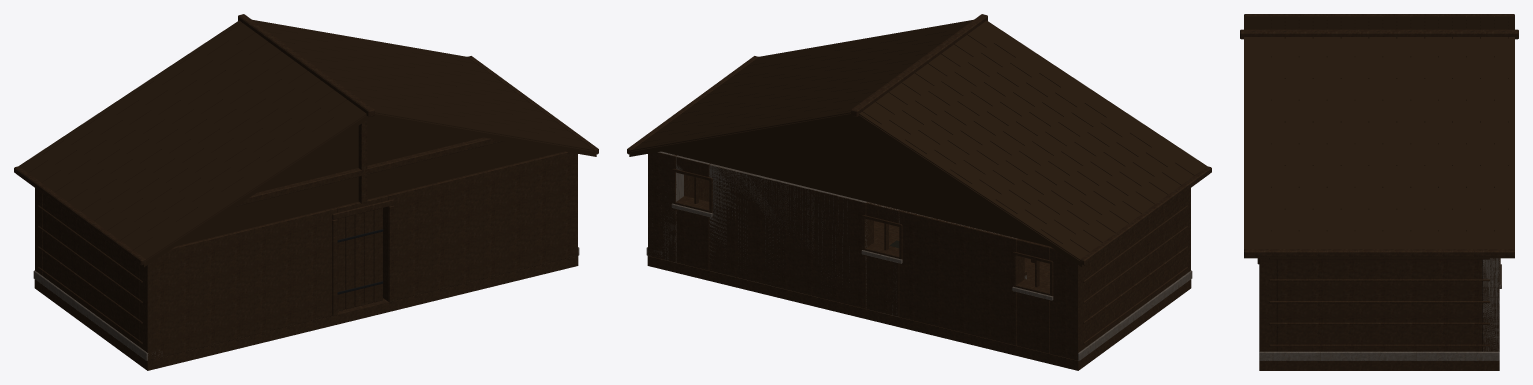
Rendered from s_porters_barracks_11x5.glb.
3 views of the same model, side by side, from view 1: azimuth 30°, elevation 25°; view 2: azimuth 150°, elevation 25°; view 3: azimuth 270°, elevation 25° (orthographic). The views are drawn at different scales.
Visible parts, largest first — view 1: floor, window ledge, Door plank.002, Door plank.003, Door plank.004, Door plank.001, Door plank; view 2: floor, rear pier-colonly.002, window ledge, rear pier-colonly.003; view 3: floor, window ledge, rear pier-colonly.003.
Boxes of the visible parts, x1,y1,x2,y2 form: floor: (14,14,598,370); window ledge: (33,247,579,360); Door plank.002: (354,212,364,306); Door plank.003: (364,210,373,304); Door plank.004: (373,208,382,302); Door plank.001: (345,215,354,309); Door plank: (337,217,345,311); floor: (627,14,1211,370); rear pier-colonly.002: (709,163,867,308); window ledge: (646,203,1192,360); rear pier-colonly.003: (652,151,683,262); floor: (1240,14,1518,370); window ledge: (1259,264,1501,360); rear pier-colonly.003: (1482,258,1499,351).
Size of what is drawn, in the model's own units: 11.7 by 5.24 by 5.8.
Materials: 7 (6 with a texture image).
